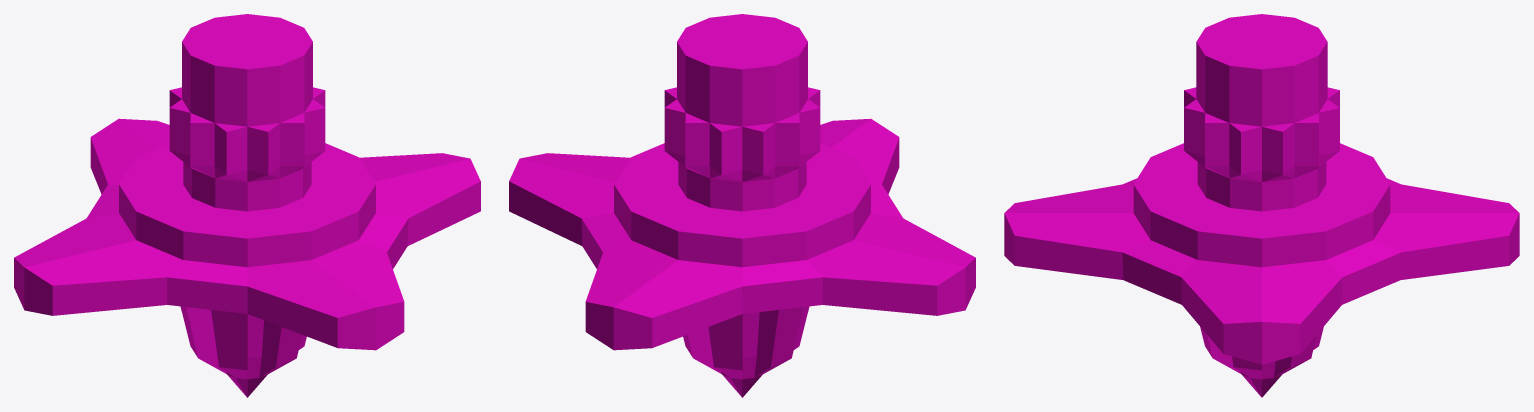
The model's file is 6Bit.fbx.
3 views of the same model, side by side, from view 1: azimuth 30°, elevation 25°; view 2: azimuth 150°, elevation 25°; view 3: azimuth 270°, elevation 25° (orthographic).
Visible parts, largest first — view 1: 6Bit; view 2: 6Bit; view 3: 6Bit.
Boxes of the visible parts, left/top/right/bottom form: 6Bit: left=14, top=14, right=480, bottom=397; 6Bit: left=509, top=14, right=975, bottom=397; 6Bit: left=1004, top=14, right=1519, bottom=397.
Bounding box in the file's own units: 326 × 248 × 326.
